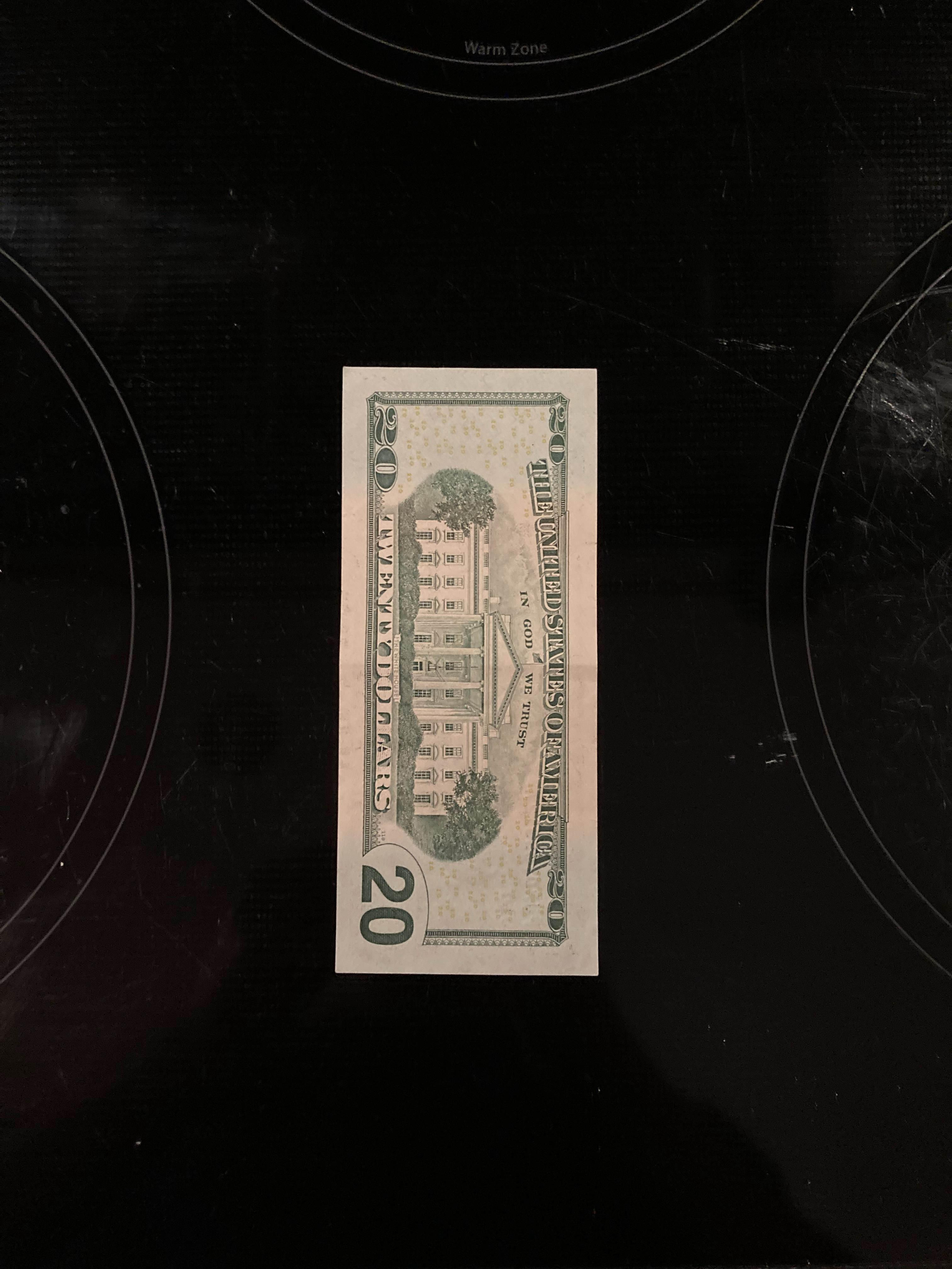twenty-back: (333, 365, 603, 977)
